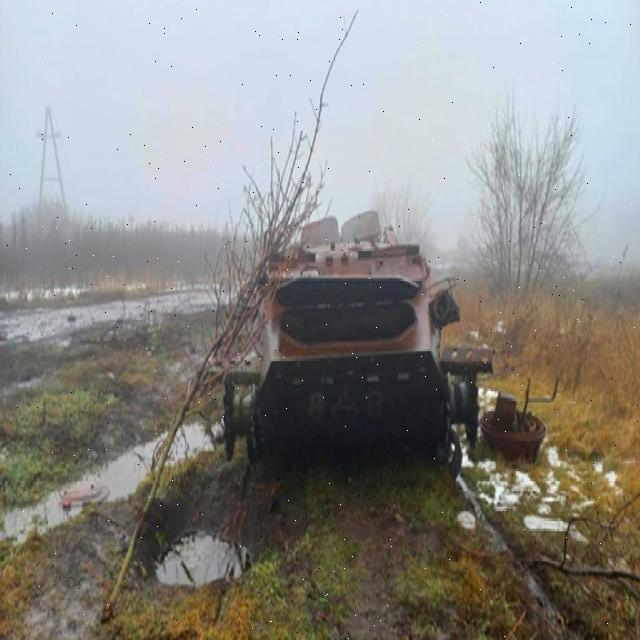APC-IFV: (218, 205, 486, 471)
